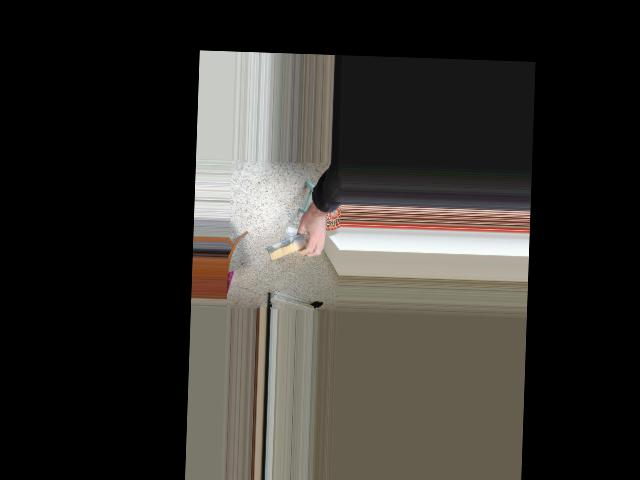cheese: (262, 221, 330, 277)
